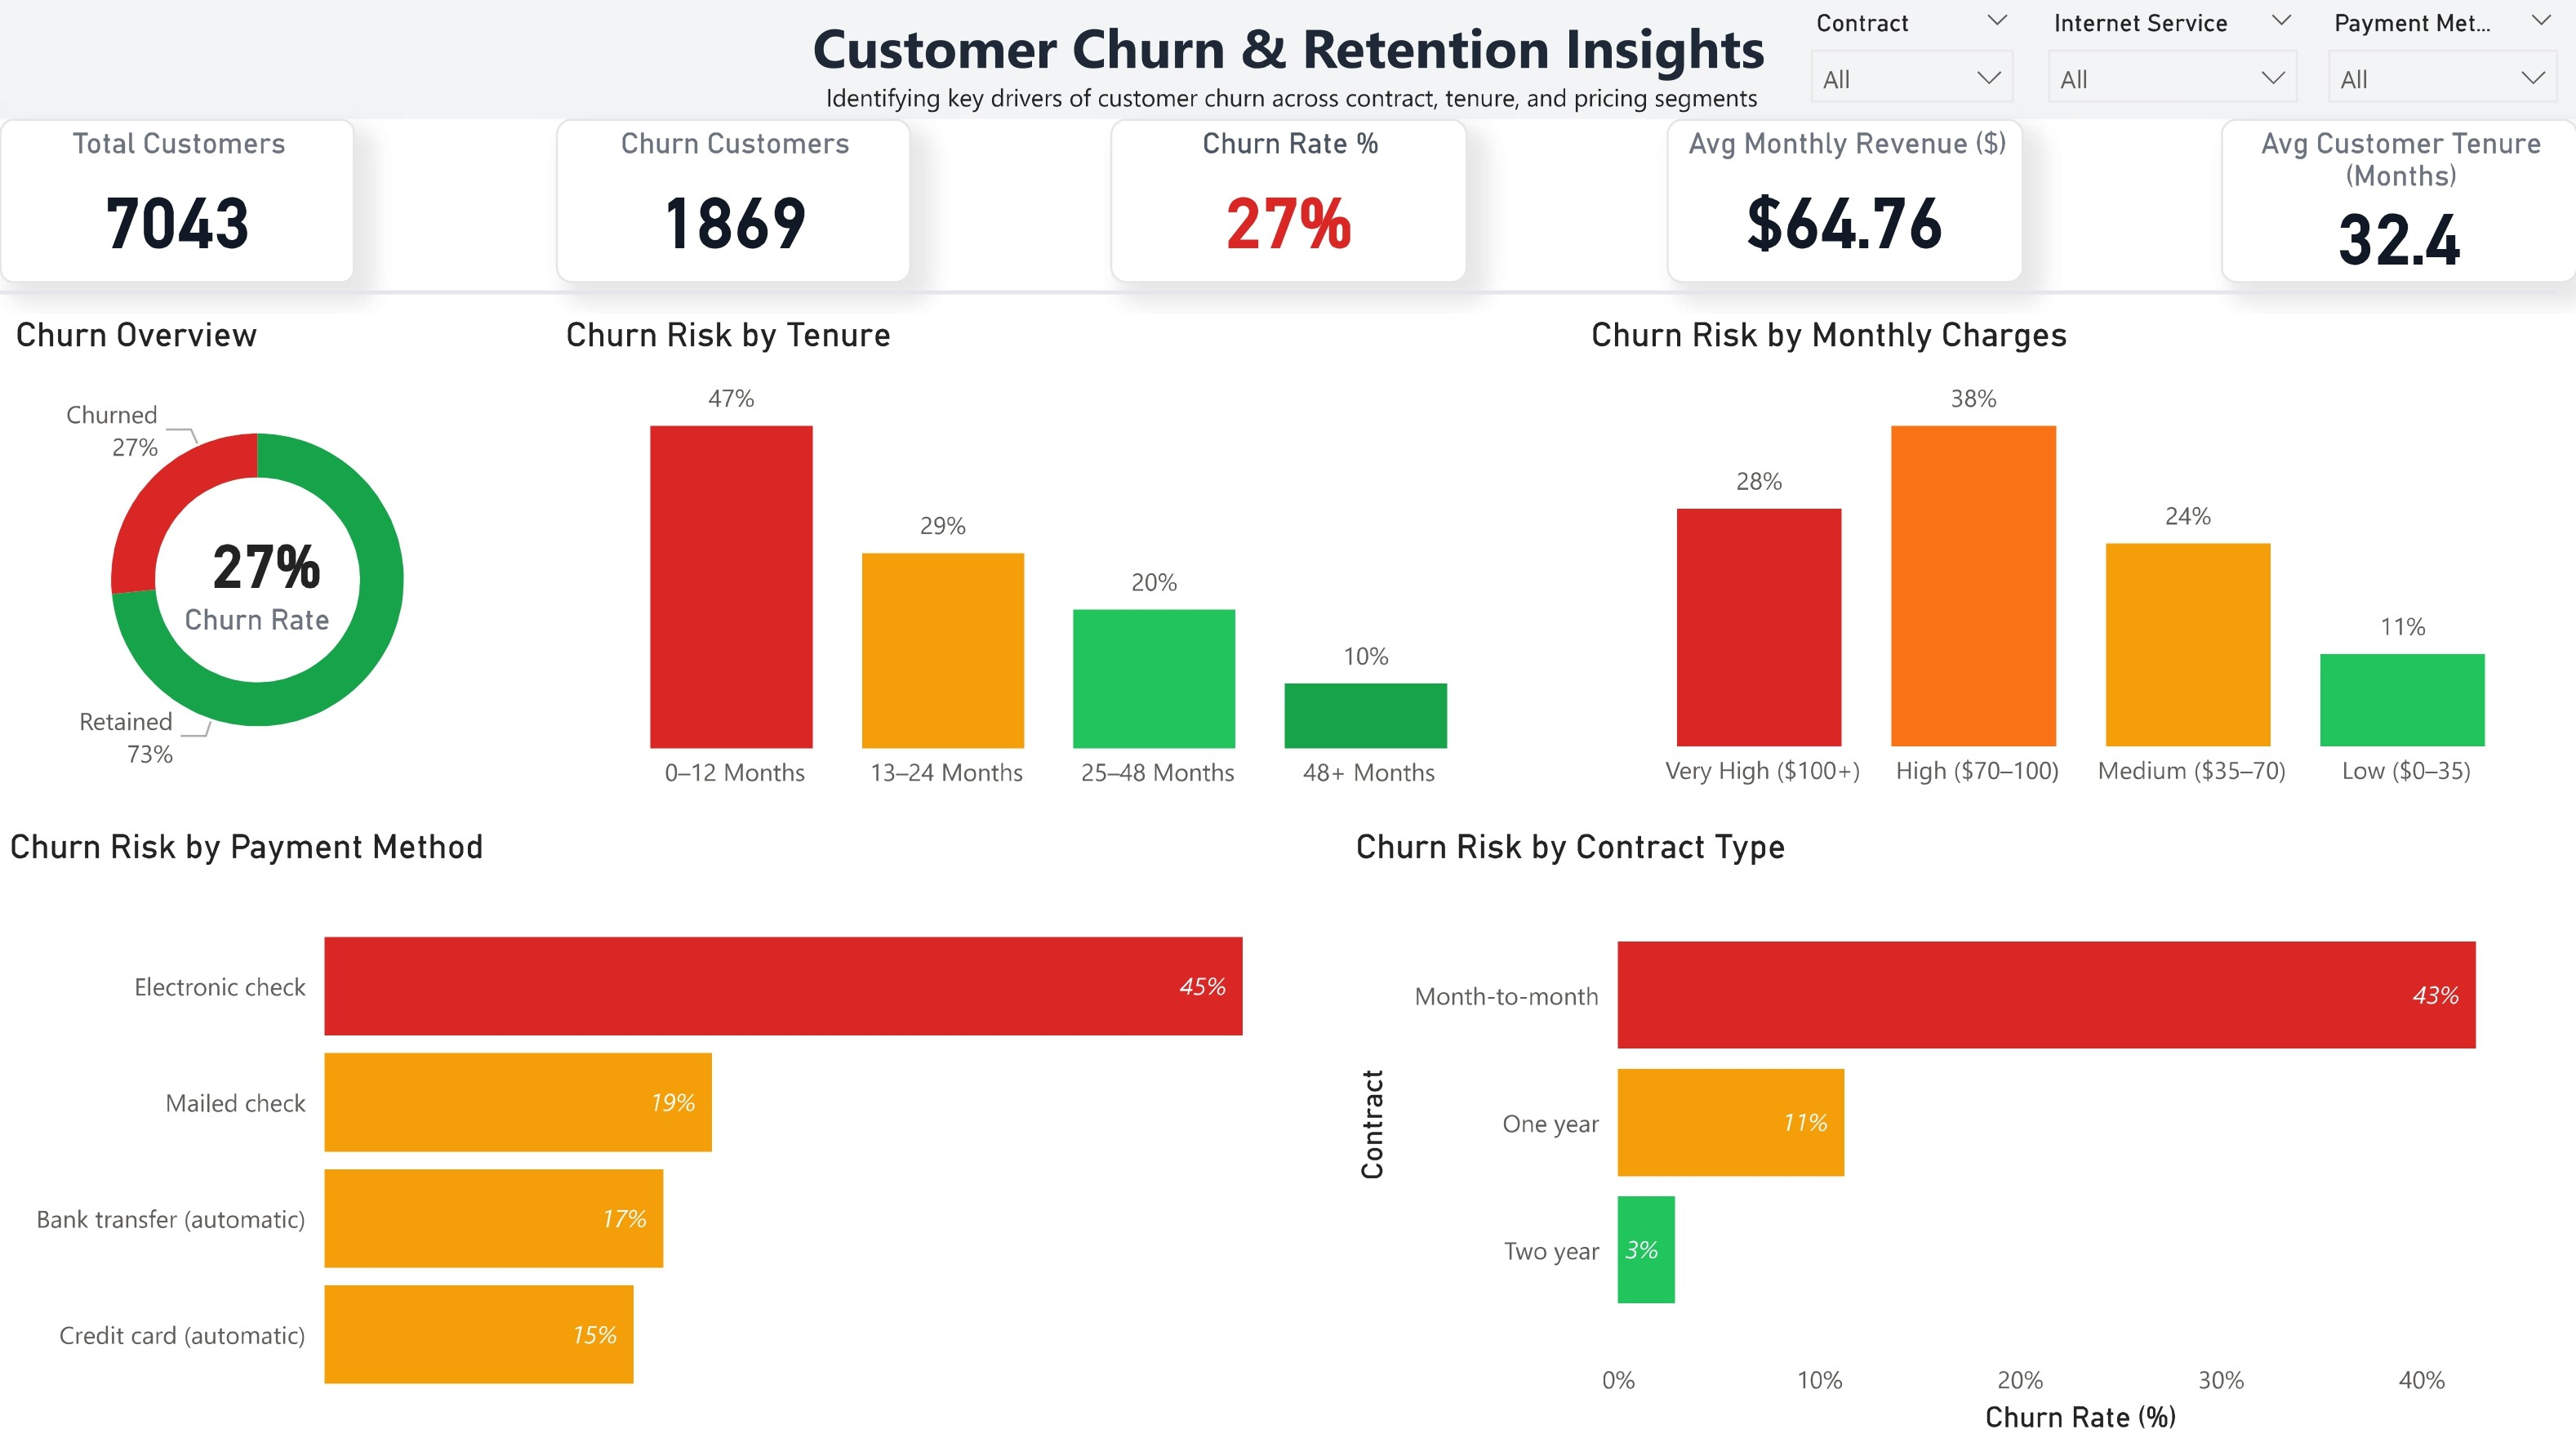

The page's visual inventory and layout, read from the dashboard file:
{"tool":"powerbi","page":{"name":"Dashboard","canvas":[1280,720],"ordinal":0},"visuals":[{"type":"textbox","title":"ghg","box":[9.9,0,1269.9,59.1],"z":0},{"type":"card","title":"Total Customers","fields":{"Values":["Telco Customer.Total Customers"]},"box":[9.9,59.1,175.5,80.6],"z":1000},{"type":"card","title":"Churn Rate %","fields":{"Values":["Telco Customer.Churn Rate %"]},"box":[557,59.1,175.5,80.6],"z":2000},{"type":"card","title":"Churn Customers","fields":{"Values":["Telco Customer.Churn Customers"]},"box":[283.9,59.1,175.5,80.6],"z":3000},{"type":"card","title":"Avg Monthly Revenue ($)","fields":{"Values":["Telco Customer.Avg Monthly Charges"]},"box":[831,59.1,175.5,80.6],"z":4000},{"type":"card","title":"Avg Customer Tenure (Months)","fields":{"Values":["Telco Customer.Avg Tenure"]},"box":[1104.2,59.1,175.5,80.6],"z":5000},{"type":"shape","box":[9.9,128.1,1259.1,33.1],"z":6000},{"type":"donutChart","title":"Churn Overview","fields":{"Y":["CountNonNull(Telco Customer.customerID)"],"Category":["Telco Customer.Churn Status"]},"box":[12.5,154.9,248.1,242.7],"z":7000},{"type":"card","fields":{"Values":["Telco Customer.Churn Rate %"]},"box":[12.5,163,257.9,229.3],"z":8000},{"type":"card","fields":{"Values":["Telco Customer.Churn Text"]},"box":[8.1,191.6,257.9,229.3],"z":9000},{"type":"clusteredBarChart","title":"Churn Risk by Contract Type","fields":{"Y":["Telco Customer.Churn Rate %"],"Category":["Telco Customer.Contract"]},"box":[673.4,407.5,606.3,303.6],"z":10000},{"type":"clusteredColumnChart","title":"Churn Risk by Tenure","fields":{"Y":["Telco Customer.Churn Rate %"],"Category":["Telco Customer.Tenure Group"]},"box":[283.9,154.9,489,244.5],"z":11000},{"type":"clusteredColumnChart","title":"Churn Risk by Monthly Charges","fields":{"Category":["Telco Customer.Charges Group"],"Y":["Telco Customer.Churn Rate %"]},"box":[789,154.9,490.7,242.7],"z":12000},{"type":"slicer","fields":{"Values":["Telco Customer.Contract"]},"box":[891.9,0,120,51],"z":13000},{"type":"slicer","fields":{"Values":["Telco Customer.InternetService"]},"box":[1009.3,0,142.4,51],"z":14000},{"type":"slicer","fields":{"Values":["Telco Customer.Contract","Telco Customer.PaymentMethod"]},"box":[1147.2,0,132.5,51],"z":15000},{"type":"barChart","title":"Churn Risk by Payment Method","fields":{"Y":["Telco Customer.Churn Rate %"],"Category":["Telco Customer.PaymentMethod"]},"box":[9.9,407.5,649.3,303.6],"z":16000},{"type":"textbox","box":[411.9,34,522.1,31.3],"z":18000}]}

Visuals, with their boxes in screenshot pixels (x1, y1, x2, y2), scaled from the page's 1280x720 canvas onto the 2576x1438 screenshot:
"ghg" textbox: bbox=(20, 0, 2575, 118)
"Total Customers" card: bbox=(20, 118, 373, 279)
"Churn Rate %" card: bbox=(1121, 118, 1474, 279)
"Churn Customers" card: bbox=(572, 118, 924, 279)
"Avg Monthly Revenue ($)" card: bbox=(1672, 118, 2026, 279)
"Avg Customer Tenure (Months)" card: bbox=(2222, 118, 2575, 279)
shape: bbox=(20, 256, 2554, 322)
"Churn Overview" donutChart: bbox=(25, 309, 524, 794)
card - Telco Customer.Churn Rate %: bbox=(25, 326, 544, 784)
card - Telco Customer.Churn Text: bbox=(16, 383, 536, 840)
"Churn Risk by Contract Type" clusteredBarChart: bbox=(1355, 814, 2575, 1420)
"Churn Risk by Tenure" clusteredColumnChart: bbox=(572, 309, 1555, 798)
"Churn Risk by Monthly Charges" clusteredColumnChart: bbox=(1588, 309, 2575, 794)
slicer - Telco Customer.Contract: bbox=(1795, 0, 2036, 102)
slicer - Telco Customer.InternetService: bbox=(2031, 0, 2318, 102)
slicer - Telco Customer.Contract x Telco Customer.PaymentMethod: bbox=(2309, 0, 2575, 102)
"Churn Risk by Payment Method" barChart: bbox=(20, 814, 1327, 1420)
textbox: bbox=(829, 68, 1880, 131)
